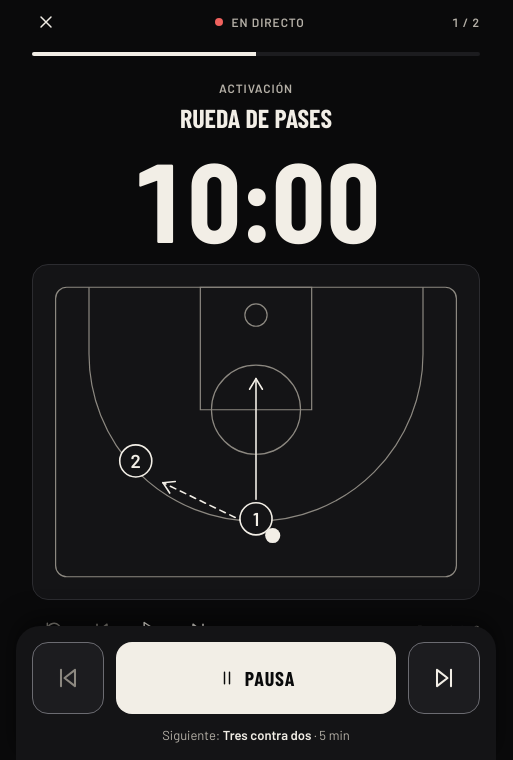
Test: la pizarra del ejercicio en curso › de un ejercicio con pizarra a uno sin ella, la pizarra desaparece
The width and height of the screenshot is (513, 760).
Click the button named "Siguiente ejercicio" at x=444, y=678, box [408, 642, 480, 714]
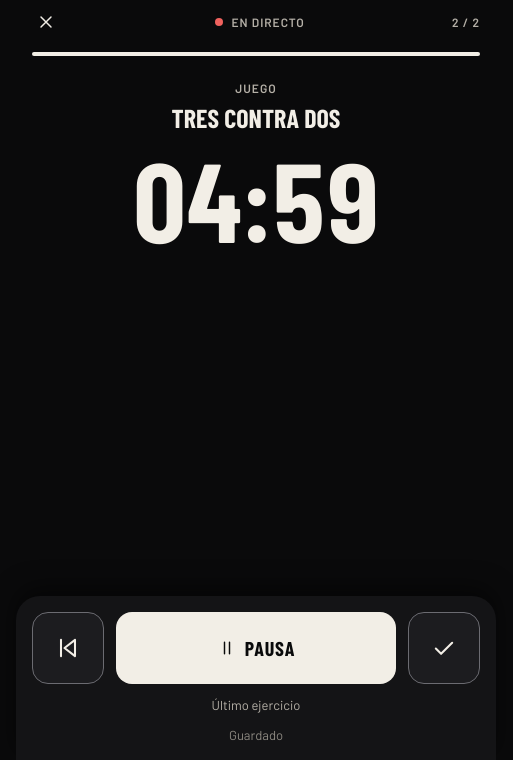
Check: the heading "Tres contra dos" is shown, box [172, 104, 340, 132]
Check: the picture is gone
